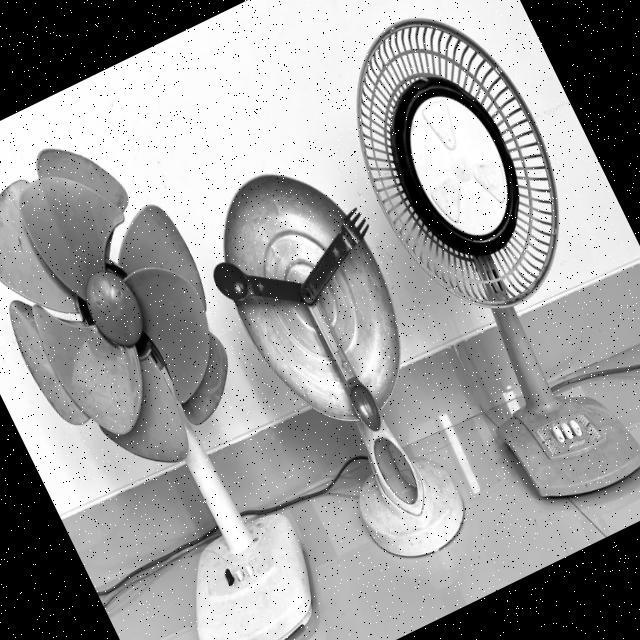fan: (0, 98, 275, 507), (302, 0, 612, 346), (176, 130, 456, 473)
